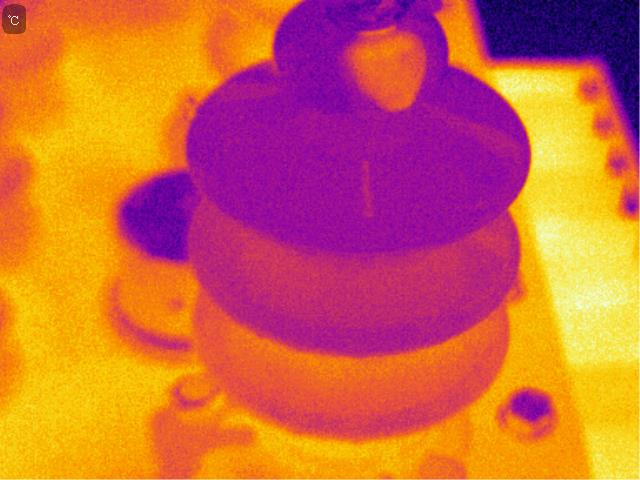Oil: (342, 20, 431, 116), (442, 107, 521, 169), (351, 154, 379, 223), (350, 437, 368, 448)
